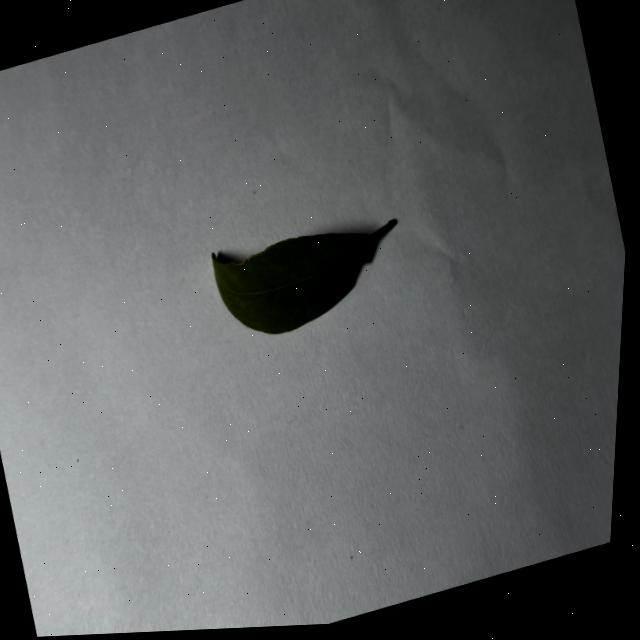greening: (211, 218, 396, 332)
